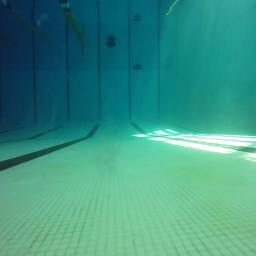Full: (132, 63, 143, 70), (106, 41, 117, 48)
